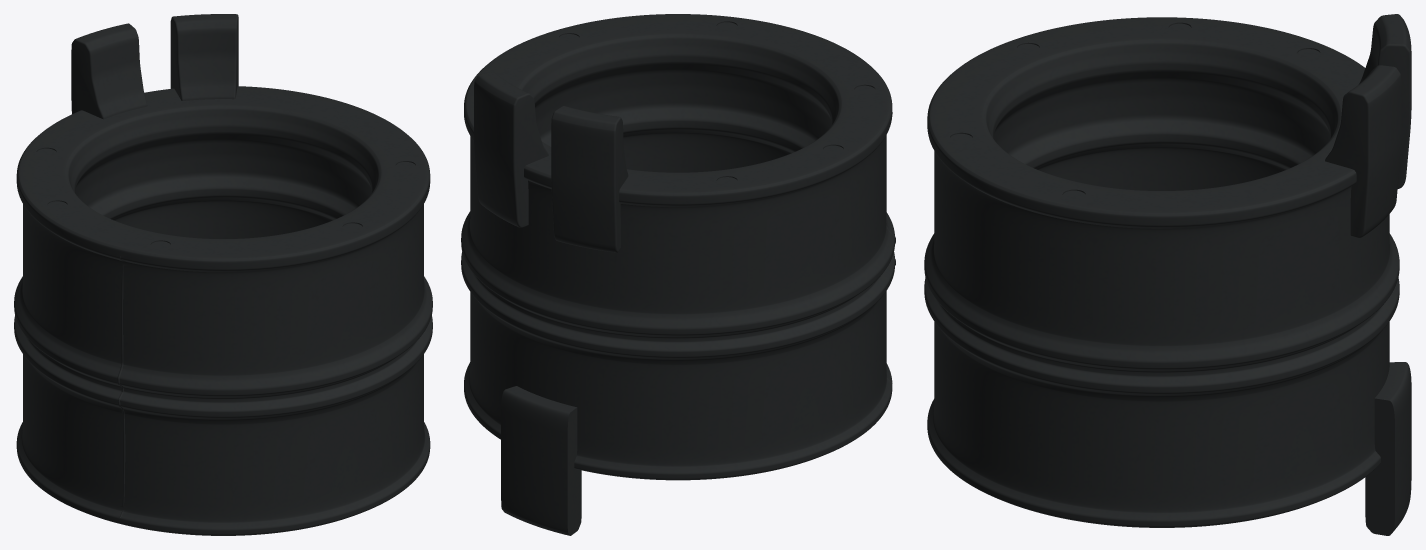
The model's file is engine-intake-sleeve-inspection.glb.
3 renders of one model, left to right at view 1: azimuth 30°, elevation 25°; view 2: azimuth 150°, elevation 25°; view 3: azimuth 270°, elevation 25°, orthographic. The views are drawn at different scales.
Visible parts, largest first — view 1: PF581402 sleeve - isolated conditional; view 2: PF581402 sleeve - isolated conditional; view 3: PF581402 sleeve - isolated conditional.
Part boxes in pixels (<box>): PF581402 sleeve - isolated conditional: <box>14,14,432,535</box>; PF581402 sleeve - isolated conditional: <box>461,14,895,535</box>; PF581402 sleeve - isolated conditional: <box>924,14,1411,535</box>.
Size of the model in its own units: 0.0476 by 0.051 by 0.0488.
1 material, 1 textured.
